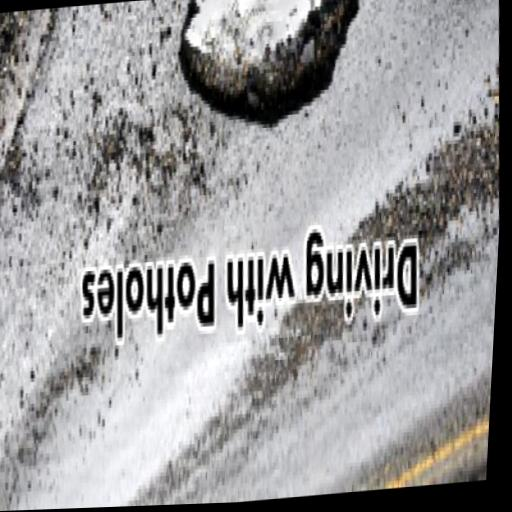pothole: (171, 0, 377, 146)
